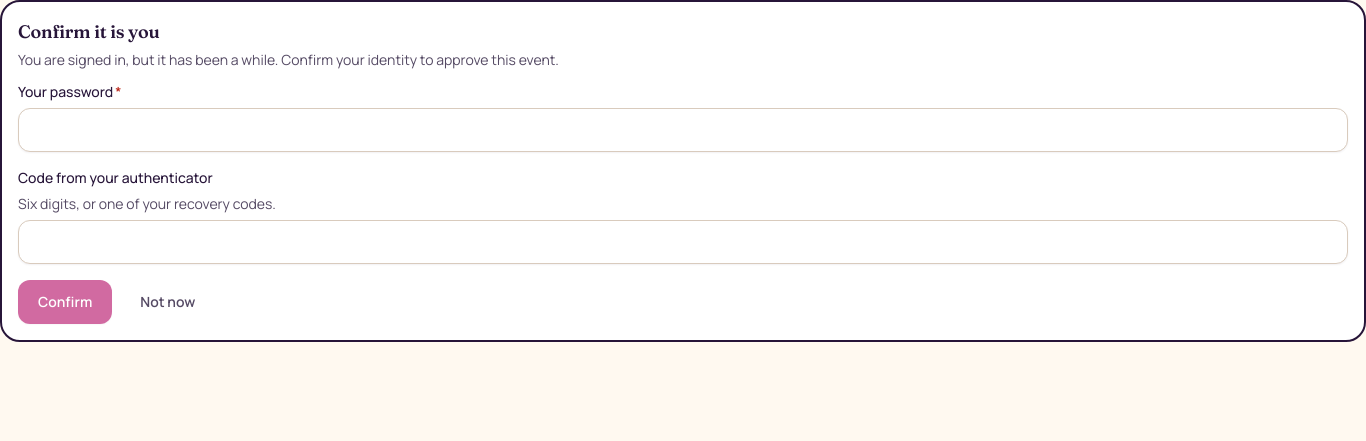
Scenario: the step-up prompt › moves focus to the refusal, which is drawn only once the answer is in
Type "correct horse" into the password field labelled "Your password*" at (683, 130), box [18,108,1348,152]
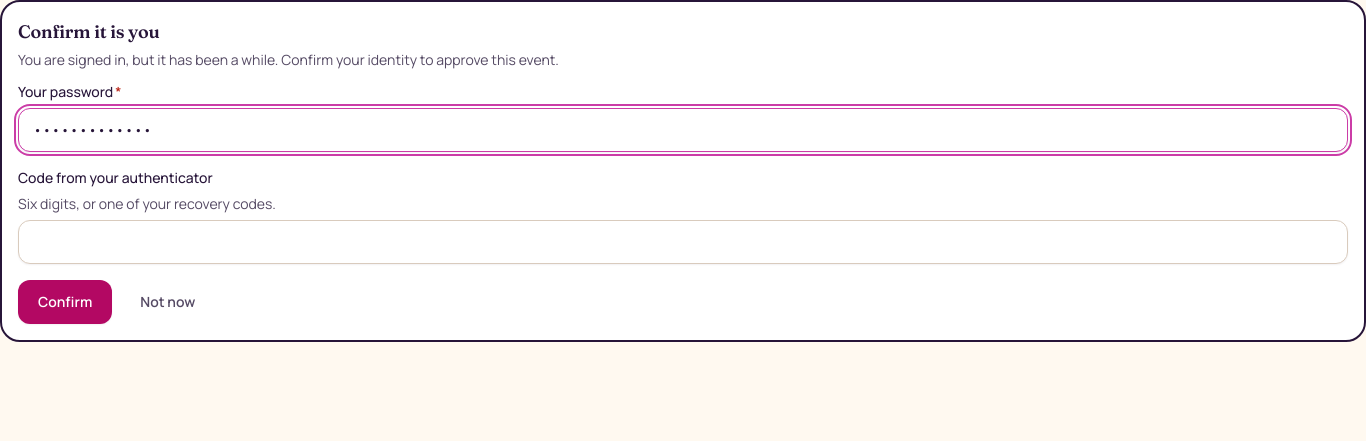
Click the button "Confirm" at (65, 302), box [18,280,112,324]
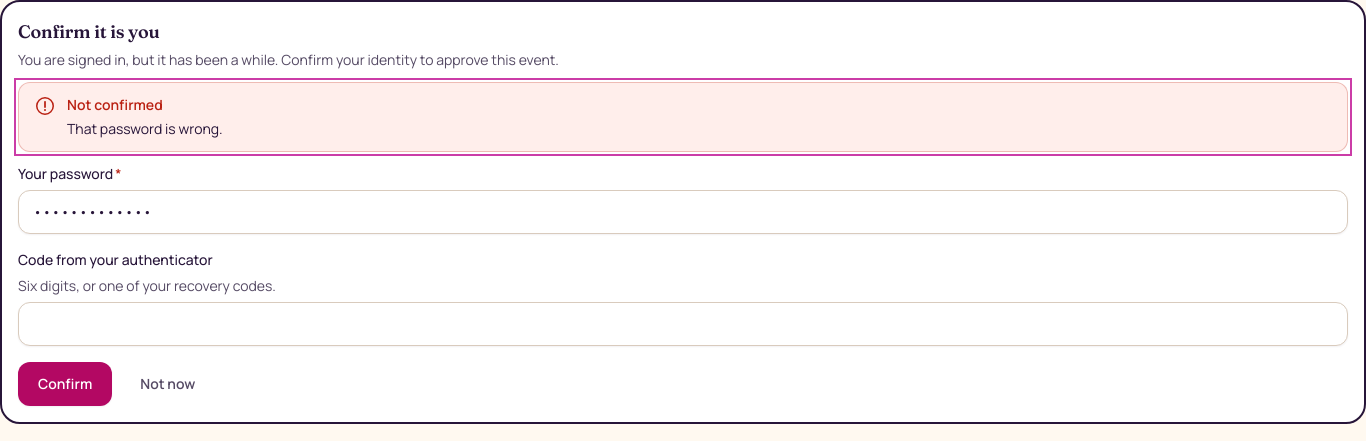
Expected: the text "That password is wrong." is shown, [67,119,223,138]
